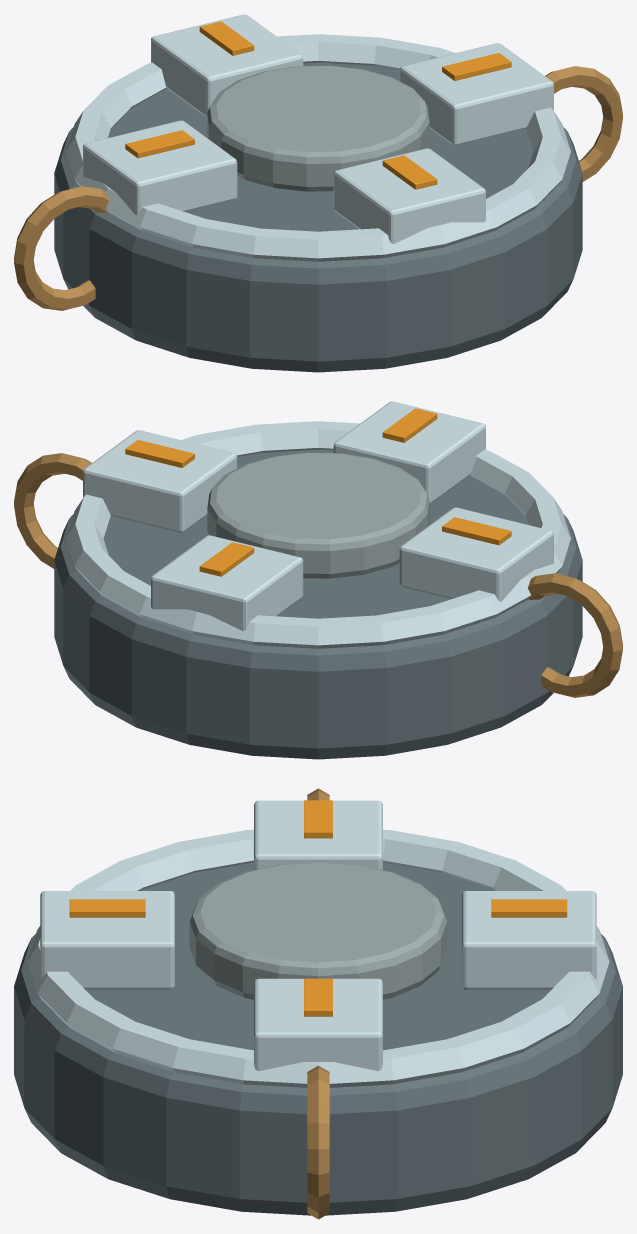
File: siege_mine.glb
3 views of the same model, one above another, from view 1: azimuth 30°, elevation 25°; view 2: azimuth 150°, elevation 25°; view 3: azimuth 270°, elevation 25° (orthographic). The views are drawn at different scales.
Visible parts, largest first — view 1: mine_steel_disk, mine_outer_ring, central_pressure_pad, armor_sector_0, armor_sector_2, armor_sector_3, armor_sector_1, rope_carry_handle_-0.56, rope_carry_handle_0.56, ochre_mark_0, ochre_mark_2, ochre_mark_1 (+1 smaller); view 2: mine_steel_disk, mine_outer_ring, central_pressure_pad, armor_sector_0, armor_sector_2, armor_sector_1, armor_sector_3, rope_carry_handle_-0.56, rope_carry_handle_0.56, ochre_mark_0, ochre_mark_2, ochre_mark_3 (+1 smaller); view 3: mine_steel_disk, mine_outer_ring, central_pressure_pad, armor_sector_1, armor_sector_3, armor_sector_0, armor_sector_2, rope_carry_handle_0.56, ochre_mark_1, ochre_mark_3, ochre_mark_0, ochre_mark_2.
Boxes of the visible parts, box(x1,y1,x2,y2) form: mine_steel_disk: box(54, 62, 582, 372); mine_outer_ring: box(66, 34, 570, 261); central_pressure_pad: box(207, 65, 429, 191); armor_sector_0: box(399, 43, 553, 145); armor_sector_2: box(83, 120, 237, 214); armor_sector_3: box(333, 148, 485, 243); armor_sector_1: box(151, 14, 303, 117); rope_carry_handle_-0.56: box(14, 186, 108, 310); rope_carry_handle_0.56: box(545, 66, 622, 181); ochre_mark_0: box(442, 53, 511, 80); ochre_mark_2: box(125, 130, 194, 158); ochre_mark_1: box(199, 21, 254, 55); mine_steel_disk: box(54, 449, 582, 759); mine_outer_ring: box(66, 421, 570, 648); central_pressure_pad: box(207, 452, 429, 578); armor_sector_0: box(83, 430, 237, 532); armor_sector_2: box(399, 507, 553, 601); armor_sector_1: box(151, 535, 303, 630); armor_sector_3: box(333, 401, 485, 504); rope_carry_handle_-0.56: box(528, 573, 622, 697); rope_carry_handle_0.56: box(14, 453, 91, 568); ochre_mark_0: box(125, 440, 194, 467); ochre_mark_2: box(442, 517, 511, 545); ochre_mark_3: box(382, 408, 437, 442); mine_steel_disk: box(14, 862, 622, 1215); mine_outer_ring: box(27, 829, 609, 1087); central_pressure_pad: box(189, 862, 447, 999); armor_sector_1: box(462, 891, 596, 989); armor_sector_3: box(40, 891, 174, 989); armor_sector_0: box(254, 978, 382, 1071); armor_sector_2: box(254, 800, 382, 869); rope_carry_handle_0.56: box(307, 1065, 329, 1219); ochre_mark_1: box(491, 899, 567, 917); ochre_mark_3: box(69, 899, 145, 917); ochre_mark_0: box(304, 978, 332, 1016); ochre_mark_2: box(304, 800, 332, 838).
Bounding box in the file's own units: 1.38 × 0.361 × 1.04.
